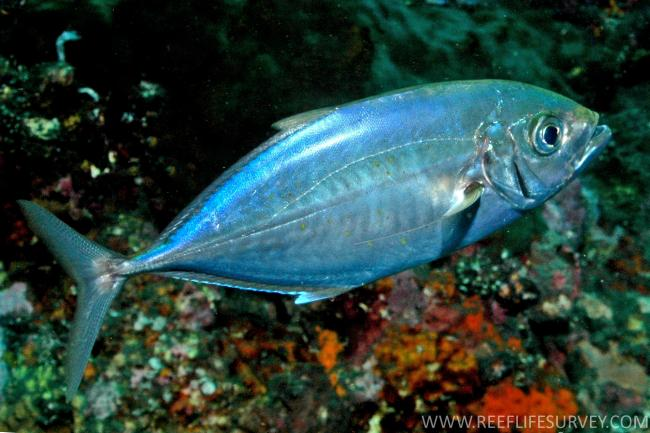fish: (19, 79, 612, 403)
